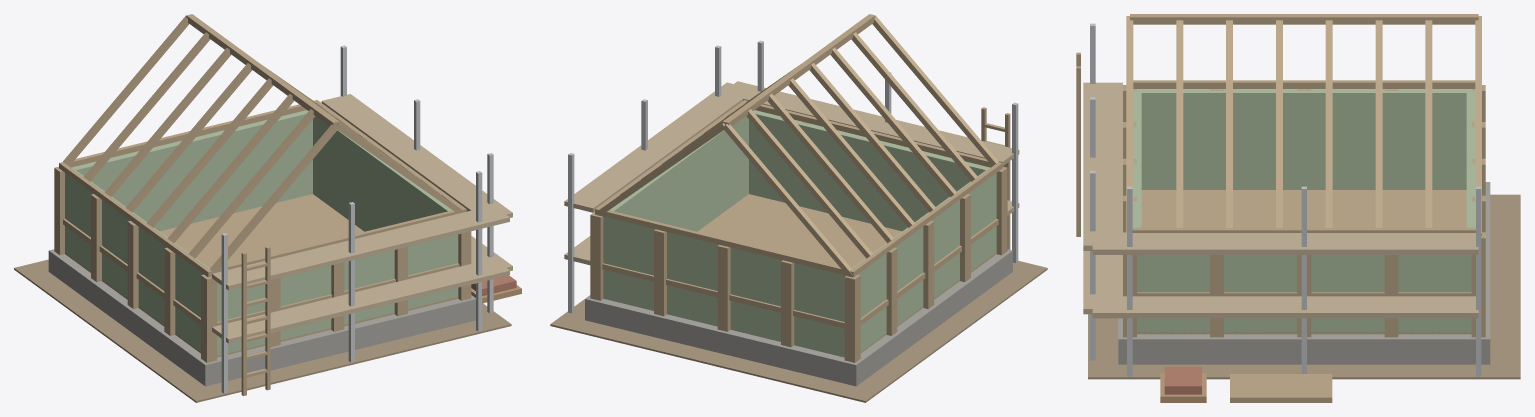
The model's file is bloom_garden_site_9.glb.
The picture shows the model from 3 angles, left to right: view 1: azimuth 30°, elevation 25°; view 2: azimuth 150°, elevation 25°; view 3: azimuth 270°, elevation 25°; orthographic projection. The views are drawn at different scales.
Visible parts, largest first — view 1: body; view 2: body; view 3: body.
Part boxes in pixels (x1,y1,x2,y2): body: (14,14,521,402); body: (550,14,1047,402); body: (1076,14,1520,402).
Bounding box in the file's own units: 2.1 × 1.29 × 1.91.
